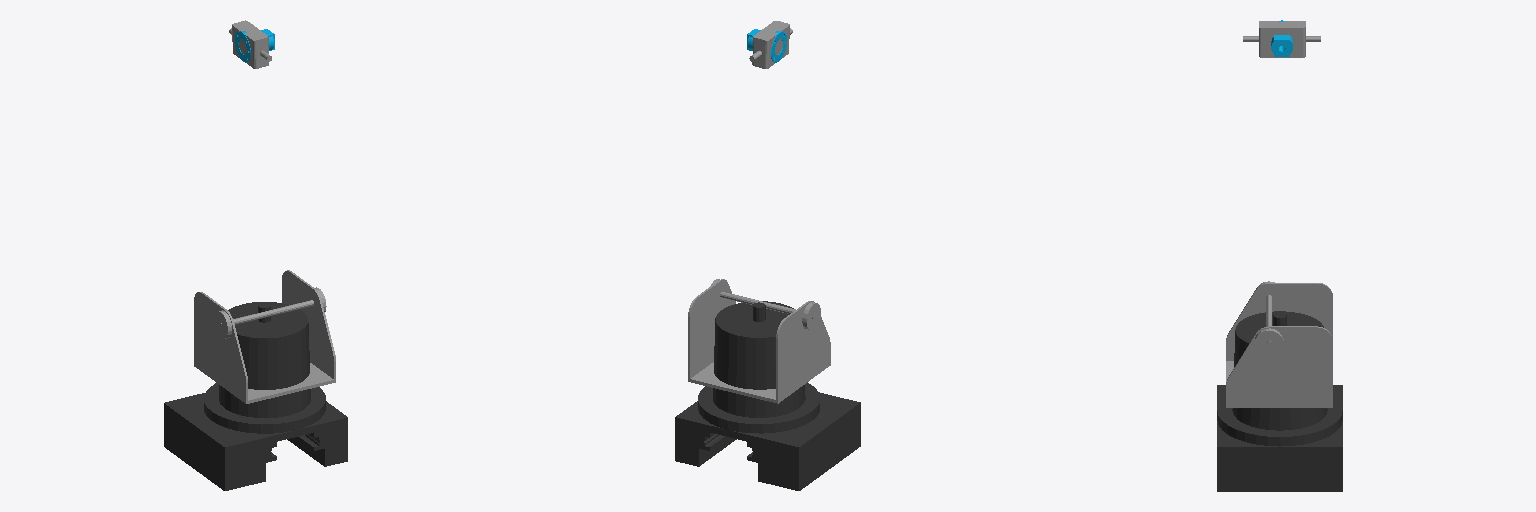
robot.urdf — scorbot-er-v-plus:
<?xml version="1.0" encoding="utf-8" ?>
<!-- This URDF was automatically created by SolidWorks to URDF Exporter! Originally created by [author] ([email redacted]) 
     Commit Version: 1.6.0-4-g7f85cfe  Build Version: 1.6.7995.38578
     For more information, please see http://wiki.ros.org/sw_urdf_exporter -->
<robot name="scorbot-er-v-plus">
    <link name="base_link">
        <inertial>
            <origin xyz="0 0 0" rpy="0 0 0" />
            <mass value="300" />
            <inertia ixx="1" ixy="1" ixz="1" iyy="1" iyz="1" izz="1" />
        </inertial>
        <visual>
            <origin xyz="0 0 0" rpy="0 0 0" />
            <geometry>
                <mesh filename="package://scorbot_er_v_moveit_config/meshes/slide_base_link.STL" />
            </geometry>
            <material name="">
                <color rgba="0.63921 0.63921 0.63921 1" />
            </material>
        </visual>
        <collision>
            <origin xyz="0 0 0" rpy="0 0 0" />
            <geometry>
                <mesh filename="package://scorbot_er_v_moveit_config/meshes/slide_base_link.STL" />
            </geometry>
        </collision>
    </link>
    <link name="slide_base_link">
        <inertial>
            <origin xyz="0.01952 0.02097 -0.0065" rpy="0 0 0" />
            <mass value="5.79" />
            <inertia ixx="0.060964921632227" ixy="0.00083087941877" ixz="-0.004769390211207" iyy="0.070370393357185" iyz="-0.001444915336114" izz="0.074711101297281" />
        </inertial>
        <visual>
            <origin xyz="0 0 0" rpy="0 0 0" />
            <geometry>
                <mesh filename="package://scorbot_er_v_moveit_config/meshes/base_link.STL" />
            </geometry>
            <material name="">
                <color rgba="0.2666 0.2666 0.2666 1" />
            </material>
        </visual>
        <collision>
            <origin xyz="0 0 0" rpy="0 0 0" />
            <geometry>
                <mesh filename="package://scorbot_er_v_moveit_config/meshes/base_link.STL" />
            </geometry>
        </collision>
    </link>
    <joint name="slide_base_joint" type="prismatic">
        <origin xyz="0 -0.2 0.1" rpy="1.5708 0 0" />
        <parent link="base_link" />
        <child link="slide_base_link" />
        <axis xyz="0 0 -1" />
        <limit lower="-0.91" upper="0" effort="0" velocity="0" />
    </joint>
    <link name="body_link">
        <inertial>
            <origin xyz="0.00907 -0.00106 -0.07918" rpy="0 0 0" />
            <mass value="4.641" />
            <inertia ixx="0.058098396" ixy="-0.000241802" ixz="-0.000720646" iyy="0.058851358" iyz="0.000820705" izz="0.031538128" />
        </inertial>
        <visual>
            <origin xyz="0 0 0" rpy="0 0 0" />
            <geometry>
                <mesh filename="package://scorbot_er_v_moveit_config/meshes/body_link.STL" />
            </geometry>
            <material name="">
                <color rgba="0.63921 0.63921 0.63921 1" />
            </material>
        </visual>
        <collision>
            <origin xyz="0 0 0" rpy="0 0 0" />
            <geometry>
                <mesh filename="package://scorbot_er_v_moveit_config/meshes/body_link.STL" />
            </geometry>
        </collision>
    </link>
    <joint name="body_joint" type="continuous">
        <origin xyz="0 0.213 -0.0042571" rpy="1.5708 -1.5708 3.1416" />
        <parent link="slide_base_link" />
        <child link="body_link" />
        <axis xyz="0 0 1" />
    </joint>
    <link name="shoulder_link">
        <inertial>
            <origin xyz="-0.1205 0.00487 -0.00397" rpy="0 0 0" />
            <mass value="2.249" />
            <inertia ixx="0.009020476" ixy="0.001152136" ixz="-0.002680841" iyy="0.058795509" iyz="-0.000000956" izz="0.051409972" />
        </inertial>
        <visual>
            <origin xyz="0 0 0" rpy="0 0 0" />
            <geometry>
                <mesh filename="package://scorbot_er_v_moveit_config/meshes/shoulder_link.STL" />
            </geometry>
            <material name="">
                <color rgba="0.63921 0.63921 0.63921 1" />
            </material>
        </visual>
        <collision>
            <origin xyz="0 0 0" rpy="0 0 0" />
            <geometry>
                <mesh filename="package://scorbot_er_v_moveit_config/meshes/shoulder_link.STL" />
            </geometry>
        </collision>
    </link>
    <joint name="shoulder_joint" type="continuous">
        <origin xyz="0 -0.025 0.133" rpy="1.5708 0 -1.5708" />
        <parent link="body_link" />
        <child link="shoulder_link" />
        <axis xyz="0 0 1" />
    </joint>
    <link name="elbow_link">
        <inertial>
            <origin xyz="0.14132 0.00473 0.00011" rpy="0 0 0" />
            <mass value="1.1913" />
            <inertia ixx="0.005713218" ixy="0.00060436" ixz="-0.000002235" iyy="0.055765142" iyz="0" izz="0.051303852" />
        </inertial>
        <visual>
            <origin xyz="0 0 0" rpy="0 0 0" />
            <geometry>
                <mesh filename="package://scorbot_er_v_moveit_config/meshes/elbow_link.STL" />
            </geometry>
            <material name="">
                <color rgba="0.63921 0.63921 0.63921 1" />
            </material>
        </visual>
        <collision>
            <origin xyz="0 0 0" rpy="0 0 0" />
            <geometry>
                <mesh filename="package://scorbot_er_v_moveit_config/meshes/elbow_link.STL" />
            </geometry>
        </collision>
    </link>
    <joint name="elbow_joint" type="continuous">
        <origin xyz="0.00063455 0.22457 0" rpy="0 0 0" />
        <parent link="shoulder_link" />
        <child link="elbow_link" />
        <axis xyz="0 0 1" />
    </joint>
    <link name="wrist_link">
        <inertial>
            <origin xyz="0 0 0" rpy="0 0 0" />
            <mass value="0.634" />
            <inertia ixx="0.0001" ixy="0.0001" ixz="0.0001" iyy="0.0001" iyz="0.0001" izz="0.0001" />
        </inertial>
        <visual>
            <origin xyz="0 0 0" rpy="0 0 0" />
            <geometry>
                <mesh filename="package://scorbot_er_v_moveit_config/meshes/wrist_link.STL" />
            </geometry>
            <material name="">
                <color rgba="0.63921 0.63921 0.63921 1" />
            </material>
        </visual>
        <collision>
            <origin xyz="0 0 0" rpy="0 0 0" />
            <geometry>
                <mesh filename="package://scorbot_er_v_moveit_config/meshes/wrist_link.STL" />
            </geometry>
        </collision>
    </link>
    <joint name="wrist_joint" type="continuous">
        <origin xyz="0.0039335 0.21996 0" rpy="0 0 -0.032728" />
        <parent link="elbow_link" />
        <child link="wrist_link" />
        <axis xyz="0 0 1" />
    </joint>
    <link name="roll_wrist_link">
        <inertial>
            <origin xyz="0 0 0" rpy="0 0 0" />
            <mass value="0.449" />
            <inertia ixx="0.0001" ixy="0.0001" ixz="0.0001" iyy="0.0001" iyz="0.0001" izz="0.0001" />
        </inertial>
        <visual>
            <origin xyz="0 0 0" rpy="0 0 0" />
            <geometry>
                <mesh filename="package://scorbot_er_v_moveit_config/meshes/roll_wrist_link.STL" />
            </geometry>
            <material name="">
                <color rgba="0.08235 0.73725 0.95294 1" />
            </material>
        </visual>
        <collision>
            <origin xyz="0 0 0" rpy="0 0 0" />
            <geometry>
                <mesh filename="package://scorbot_er_v_moveit_config/meshes/roll_wrist_link.STL" />
            </geometry>
        </collision>
    </link>
    <joint name="roll_wrist_joint" type="continuous">
        <origin xyz="0.0185 0 0" rpy="1.5708 1.5708 1.5708" />
        <parent link="wrist_link" />
        <child link="roll_wrist_link" />
        <axis xyz="0 0 1" />
    </joint>
    <transmission name="trans_slide_base_joint">
        <type>transmission_interface/SimpleTransmission</type>
        <joint name="slide_base_joint">
            <hardwareInterface>hardware_interface/EffortJointInterface</hardwareInterface>
        </joint>
        <actuator name="slide_base_joint_motor">
            <hardwareInterface>hardware_interface/EffortJointInterface</hardwareInterface>
            <mechanicalReduction>1</mechanicalReduction>
        </actuator>
    </transmission>
    <transmission name="trans_body_joint">
        <type>transmission_interface/SimpleTransmission</type>
        <joint name="body_joint">
            <hardwareInterface>hardware_interface/EffortJointInterface</hardwareInterface>
        </joint>
        <actuator name="body_joint_motor">
            <hardwareInterface>hardware_interface/EffortJointInterface</hardwareInterface>
            <mechanicalReduction>1</mechanicalReduction>
        </actuator>
    </transmission>
    <transmission name="trans_shoulder_joint">
        <type>transmission_interface/SimpleTransmission</type>
        <joint name="shoulder_joint">
            <hardwareInterface>hardware_interface/EffortJointInterface</hardwareInterface>
        </joint>
        <actuator name="shoulder_joint_motor">
            <hardwareInterface>hardware_interface/EffortJointInterface</hardwareInterface>
            <mechanicalReduction>1</mechanicalReduction>
        </actuator>
    </transmission>
    <transmission name="trans_elbow_joint">
        <type>transmission_interface/SimpleTransmission</type>
        <joint name="elbow_joint">
            <hardwareInterface>hardware_interface/EffortJointInterface</hardwareInterface>
        </joint>
        <actuator name="elbow_joint_motor">
            <hardwareInterface>hardware_interface/EffortJointInterface</hardwareInterface>
            <mechanicalReduction>1</mechanicalReduction>
        </actuator>
    </transmission>
    <transmission name="trans_wrist_joint">
        <type>transmission_interface/SimpleTransmission</type>
        <joint name="wrist_joint">
            <hardwareInterface>hardware_interface/EffortJointInterface</hardwareInterface>
        </joint>
        <actuator name="wrist_joint_motor">
            <hardwareInterface>hardware_interface/EffortJointInterface</hardwareInterface>
            <mechanicalReduction>1</mechanicalReduction>
        </actuator>
    </transmission>
    <transmission name="trans_roll_wrist_joint">
        <type>transmission_interface/SimpleTransmission</type>
        <joint name="roll_wrist_joint">
            <hardwareInterface>hardware_interface/EffortJointInterface</hardwareInterface>
        </joint>
        <actuator name="roll_wrist_joint_motor">
            <hardwareInterface>hardware_interface/EffortJointInterface</hardwareInterface>
            <mechanicalReduction>1</mechanicalReduction>
        </actuator>
    </transmission>
    <gazebo>
        <plugin name="gazebo_ros_control">
            <robotNamespace>/</robotNamespace>
        </plugin>
    </gazebo>
</robot>

--- Render facts (derived) ---
The picture shows the robot from 3 angles, left to right: view 1: azimuth 30°, elevation 25°; view 2: azimuth 150°, elevation 25°; view 3: azimuth 270°, elevation 25°; orthographic projection.
Model scorbot-er-v-plus with 7 links and 6 joints (5 continuous, 1 prismatic), rooted at base_link, posed every joint at zero.
Links seen in each view (by area): view 1: slide_base_link, body_link, wrist_link; view 2: slide_base_link, body_link, wrist_link; view 3: slide_base_link, body_link, wrist_link.
Boxes of the visible links, box(x1,y1,x2,y2) form: slide_base_link: box(164, 302, 347, 490); body_link: box(194, 270, 335, 403); wrist_link: box(229, 20, 271, 68); slide_base_link: box(675, 301, 860, 490); body_link: box(688, 279, 830, 403); wrist_link: box(749, 21, 792, 68); slide_base_link: box(1217, 311, 1342, 491); body_link: box(1226, 281, 1332, 407); wrist_link: box(1243, 21, 1320, 57).
Size in the robot's own frame: 0.28 by 0.24 by 0.9171 metres.
Meshes: 7 distinct files referenced, 4 mesh visuals loaded (4 binary STL); not drawn: 3 (reference not matched to a file when rendering).